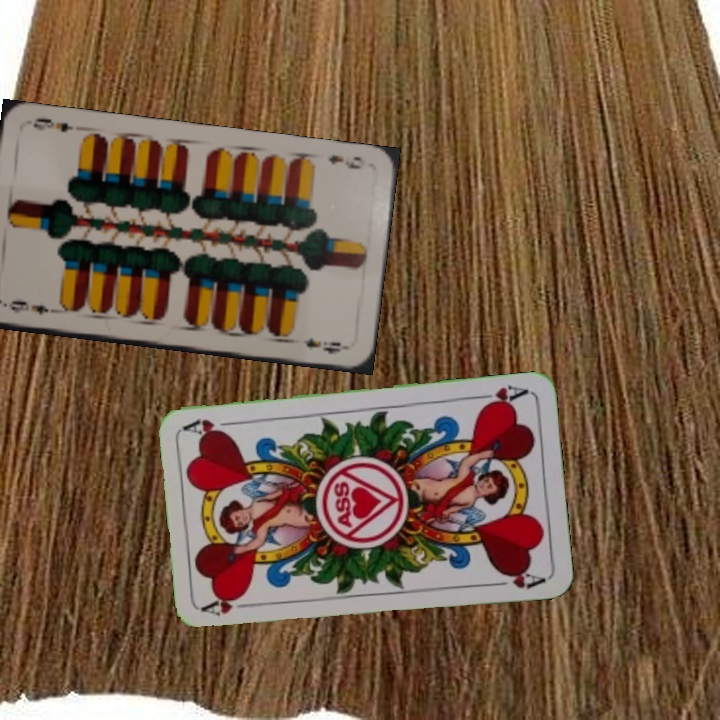E9: (4, 296, 62, 317), (324, 151, 368, 172)
HA: (471, 381, 530, 410), (200, 592, 259, 619)
